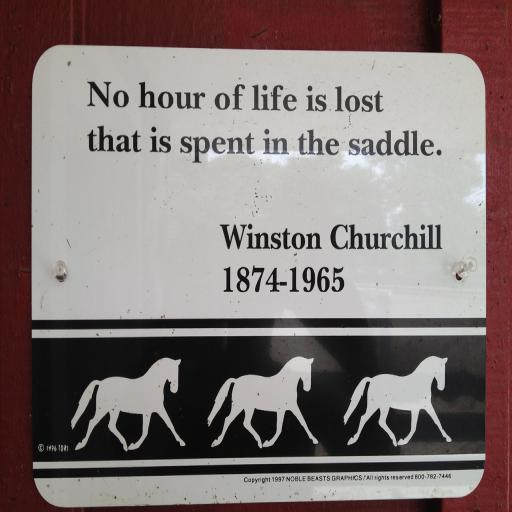horse: (68, 355, 187, 452), (206, 354, 318, 446), (342, 356, 452, 446)
